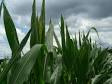Diseased_Leaves: (46, 30, 54, 50), (39, 20, 42, 34)
